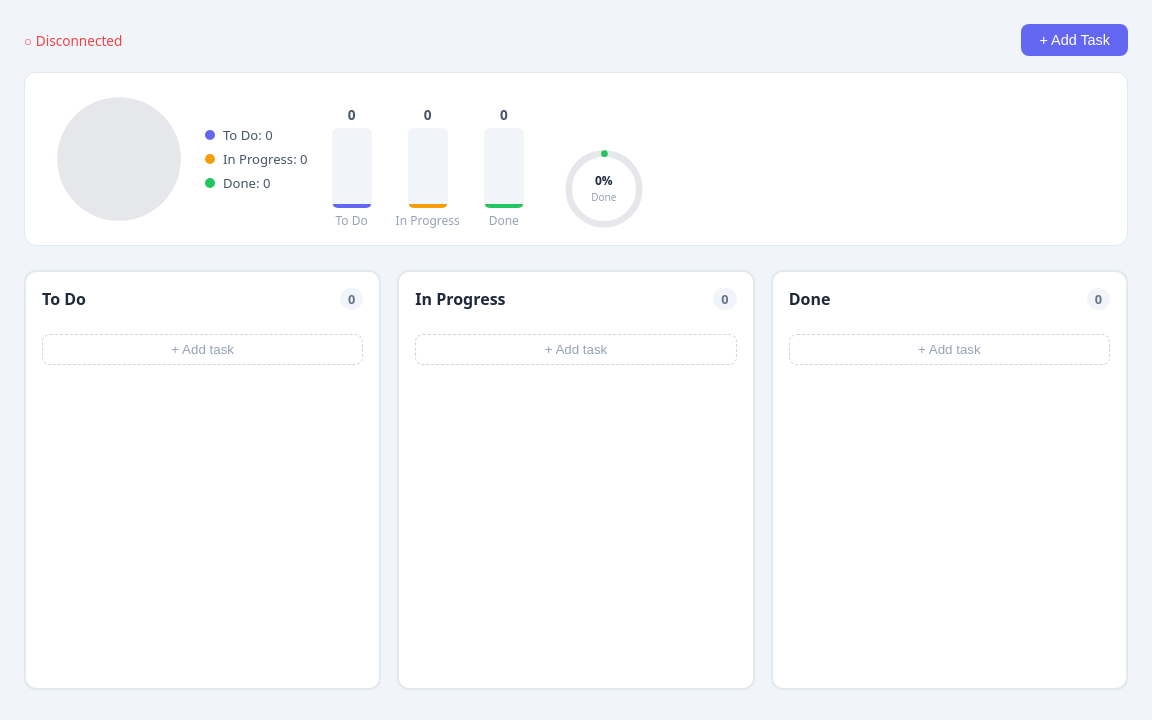
KanbanBoard › opens modal when Add Task is clicked
This screenshot has width=1152, height=720.
Check: the element with test id "column-todo" is shown, box [24, 270, 381, 690]
Click the button with test id "add-task-btn": (1075, 40) [1022, 24, 1128, 56]
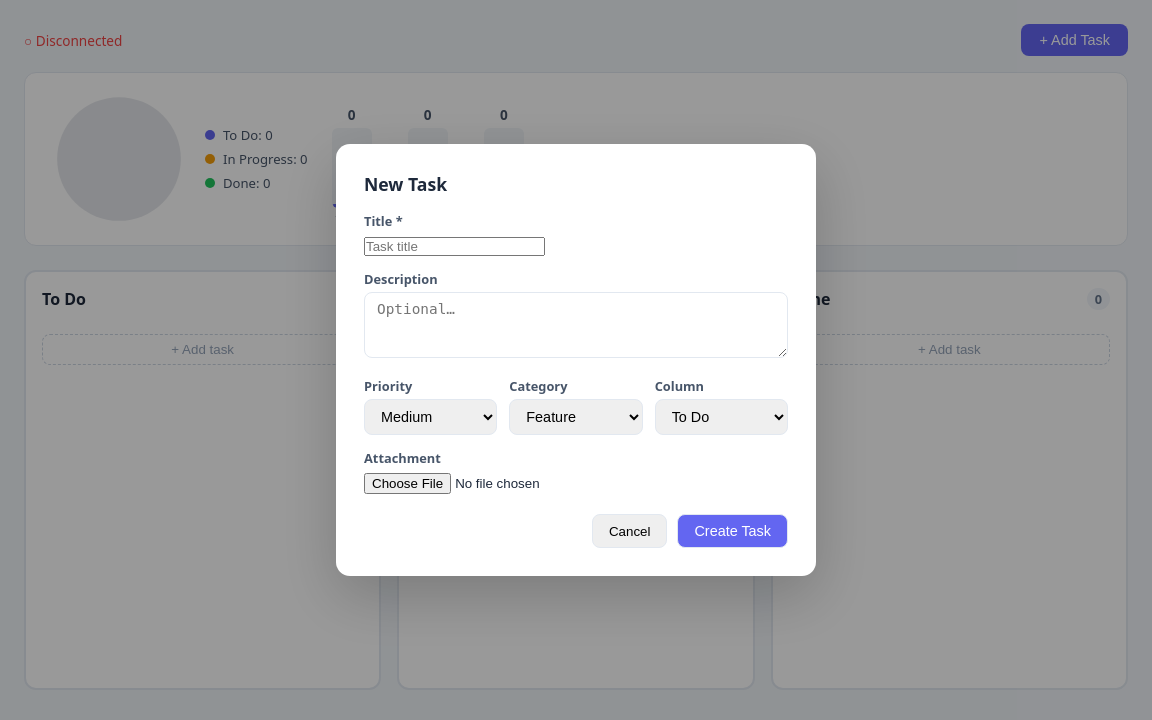
Check: the element with test id "task-modal" is shown, box [336, 144, 816, 576]
